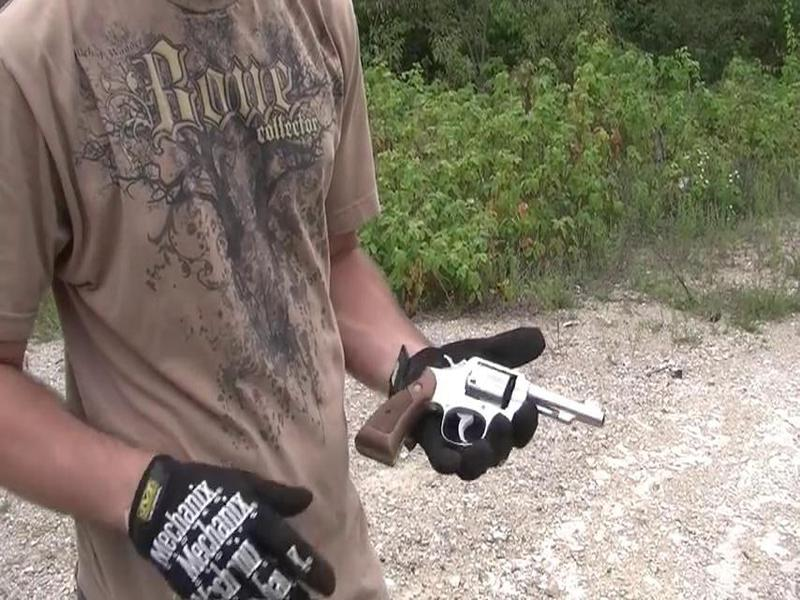Revolver: (342, 348, 609, 484)
